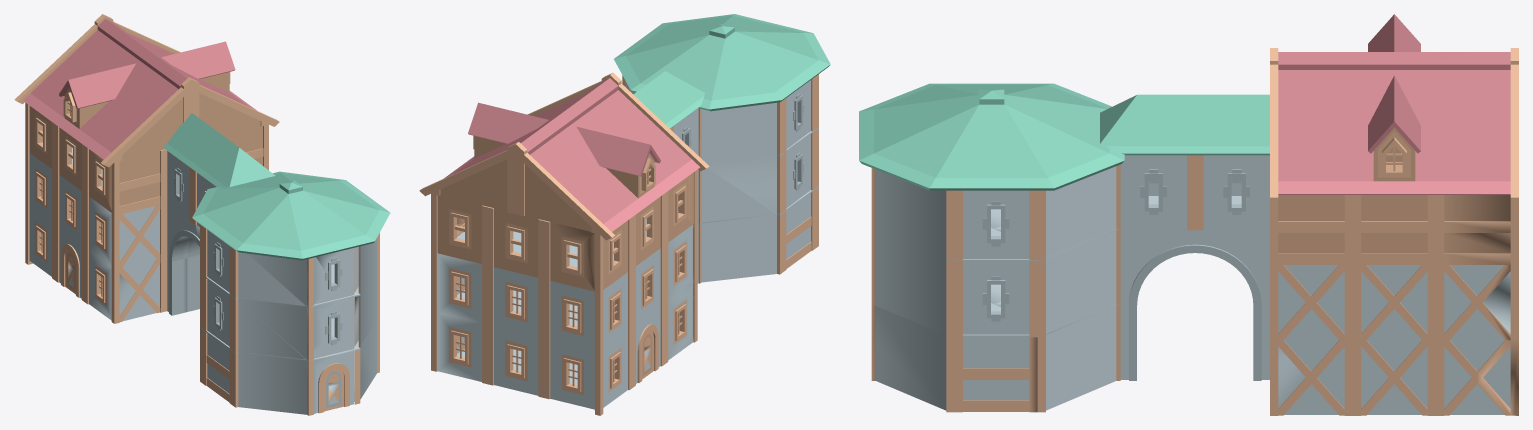
The model's file is BasicHouse4.fbx.
The picture shows the model from 3 angles, left to right: view 1: azimuth 30°, elevation 25°; view 2: azimuth 150°, elevation 25°; view 3: azimuth 270°, elevation 25°; orthographic projection. The views are drawn at different scales.
Parts seen in each view (by area): view 1: wallWindowStone.007, wallDoor.003, roofHighRight.001, roofGable.001; view 2: wallDoor.003, roofHighRight.001, wallWindowStone.007, roofGable.001, road.005; view 3: wallWindowStone.007, wallDoor.003, roofHighRight.001, roofGable.001.
Part boxes in pixels (x1=…): wallWindowStone.007: x1=166, y1=150, x2=379, y2=415; wallDoor.003: x1=25, y1=102, x2=268, y2=323; roofHighRight.001: x1=14, y1=14, x2=279, y2=167; roofGable.001: x1=163, y1=113, x2=390, y2=260; wallDoor.003: x1=431, y1=169, x2=697, y2=415; roofHighRight.001: x1=419, y1=73, x2=709, y2=240; wallWindowStone.007: x1=622, y1=74, x2=818, y2=283; roofGable.001: x1=614, y1=14, x2=830, y2=128; road.005: x1=457, y1=219, x2=646, y2=385; wallWindowStone.007: x1=871, y1=155, x2=1269, y2=412; wallDoor.003: x1=1270, y1=195, x2=1518, y2=415; roofHighRight.001: x1=1270, y1=14, x2=1518, y2=199; roofGable.001: x1=859, y1=83, x2=1269, y2=190.
Size of the model in its own units: 342 by 426 by 795.
